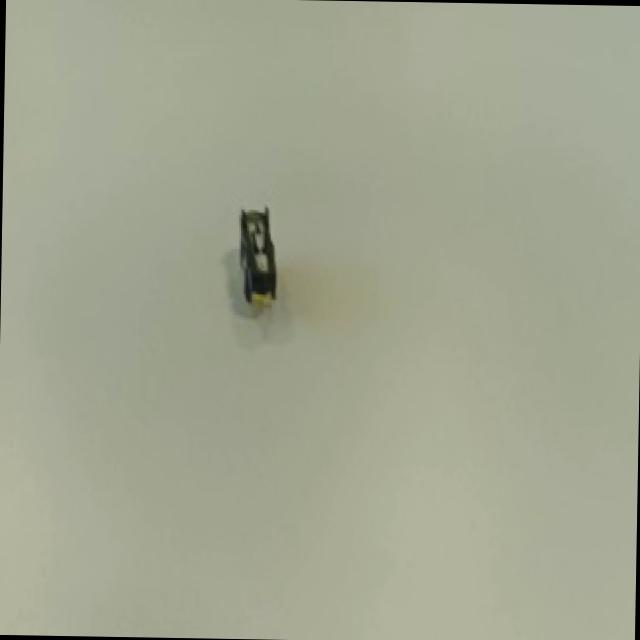6_NanoBug_GrisOscuro: (156, 182, 304, 374)
